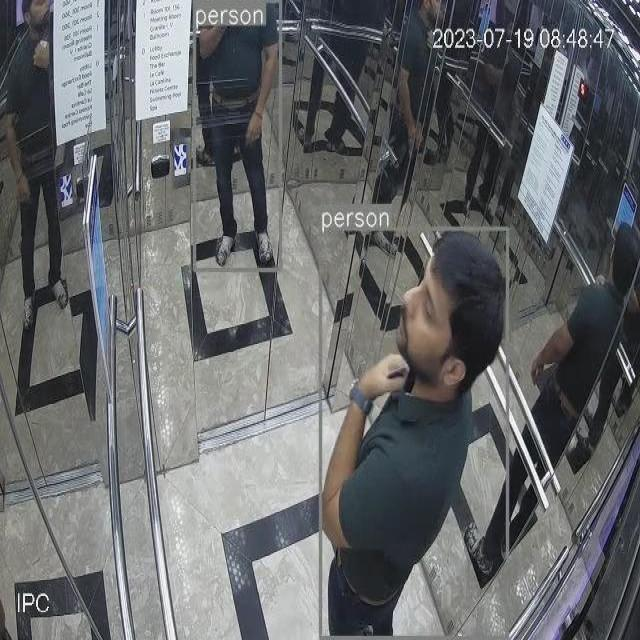person: (195, 1, 278, 271), (6, 0, 67, 315)
